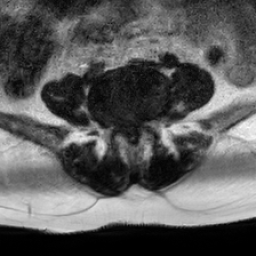CCS_severe_stenosis: (126, 115, 134, 138)
LFS_severe_stenosis: (141, 109, 149, 133)
LLS_severe_stenosis: (134, 114, 141, 136)
RFS_severe_stenosis: (110, 109, 118, 132)
RLS_severe_stenosis: (118, 113, 126, 134)
